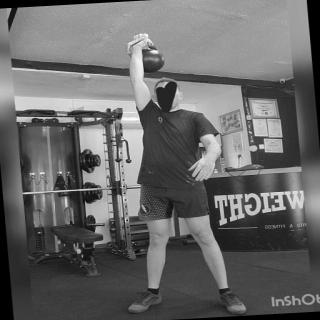kettlebell: (117, 34, 179, 78)
